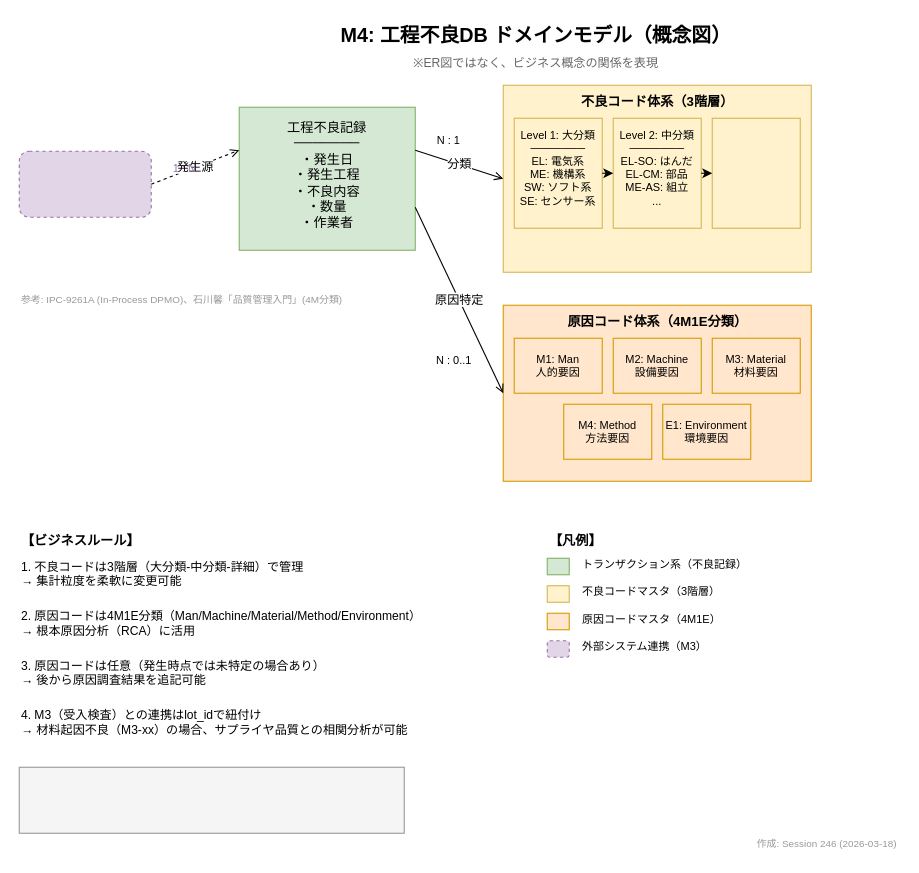
Image size: 919x873. Some labels were removed from this diagram. Here are the shapes that lost their labels. From the top down, the centre of each, then its label:
At point (84, 183): "【M3連携】 ロット".
At point (755, 172): "Level 3: 詳細 ─────── EL-SO-01: はんだブリッジ EL-SO-02: はんだ不足".
At point (211, 799): "※このドメインモデルは概念レベルの図です。 PK/FK、データ型、技術的属性（created_at等）は含みません。 スキーマ設計時にER図を別途作成します。".
